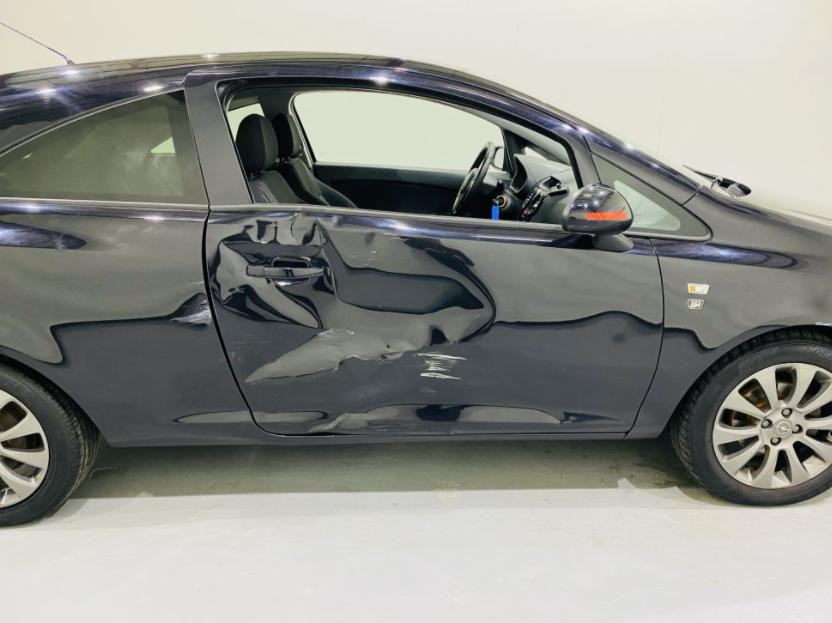Back-wheel: (0, 364, 98, 527)
Back-window: (0, 90, 208, 206)
Fender: (624, 192, 830, 437)
Front-door: (184, 65, 664, 432)
Front-wheel: (668, 329, 831, 504)
Front-window: (591, 157, 712, 241)
Hood: (686, 166, 831, 237)
Mirror: (564, 186, 632, 252)
Quarter-panel: (0, 199, 257, 430)
Rocker-panel: (100, 430, 623, 448)
Roof: (0, 55, 515, 105)
